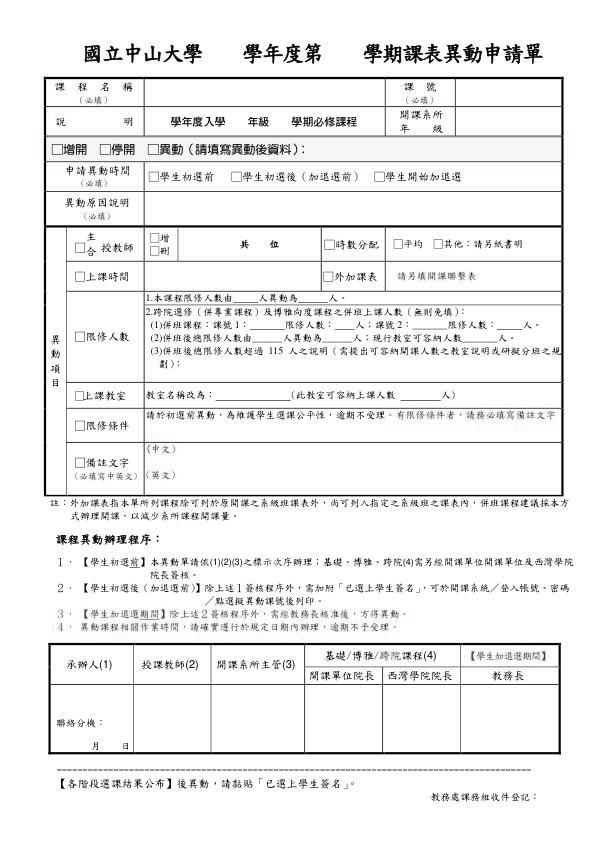table: (42, 75, 570, 497), (46, 640, 566, 761)
text: (56, 555, 575, 635), (48, 497, 570, 521), (82, 42, 547, 65), (57, 775, 362, 794), (429, 789, 538, 808), (53, 532, 166, 547)
